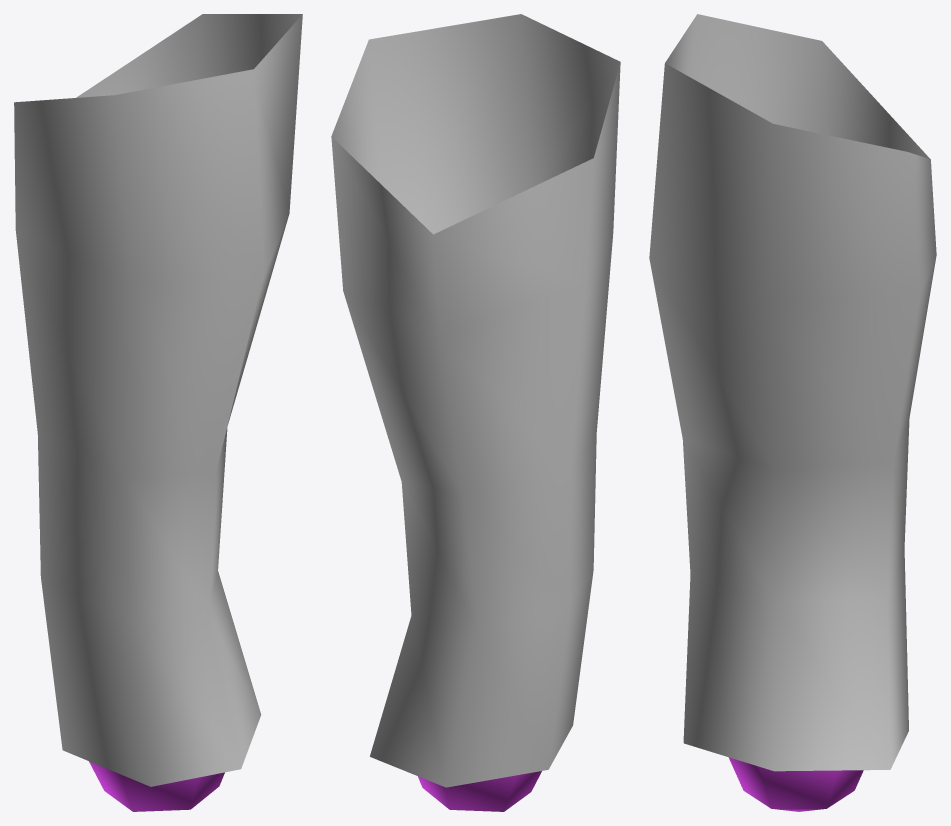
The model's file is lower_arm.gltf.
3 renders of one model, left to right at view 1: azimuth 30°, elevation 25°; view 2: azimuth 150°, elevation 25°; view 3: azimuth 270°, elevation 25°, orthographic. The views are drawn at different scales.
Parts seen in each view (by area): view 1: LEFT_LOWER_ARM; view 2: LEFT_LOWER_ARM; view 3: LEFT_LOWER_ARM.
Part boxes in pixels (box(x1,y1,x2,y2)): LEFT_LOWER_ARM: box(14, 14, 302, 811); LEFT_LOWER_ARM: box(331, 14, 620, 811); LEFT_LOWER_ARM: box(649, 14, 936, 811).
Bounding box in the file's own units: 0.1073 × 0.3062 × 0.1051.
